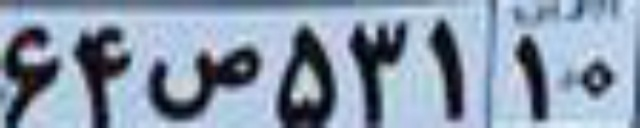0: (574, 56, 618, 98)
1: (430, 19, 471, 119), (511, 30, 549, 120)
3: (346, 16, 407, 126)
4: (74, 25, 131, 127)
5: (277, 21, 338, 126)
6: (3, 24, 62, 127)
saat: (141, 43, 264, 121)
